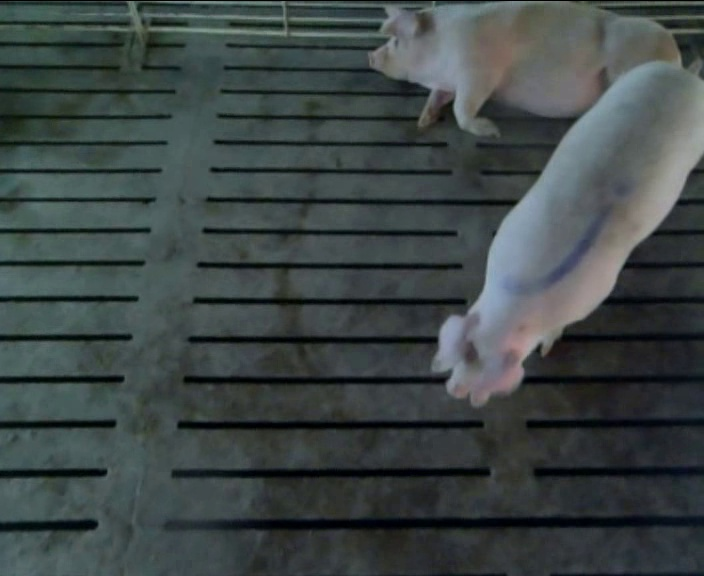pig: (432, 56, 703, 405), (369, 3, 680, 136)
